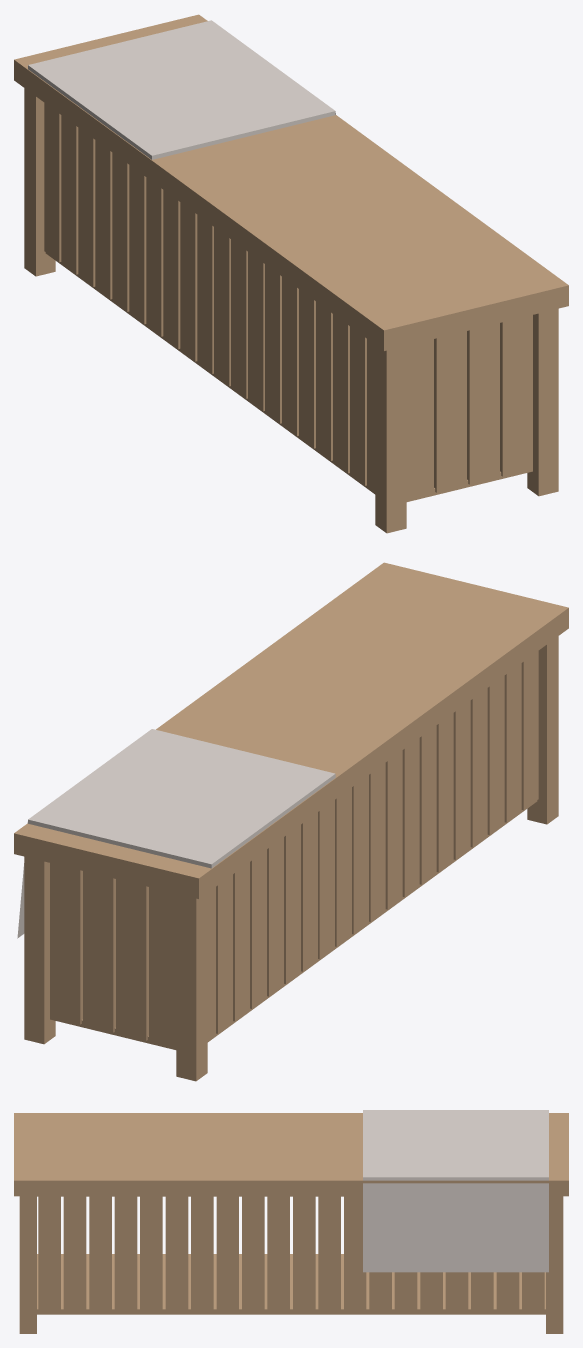
The model's file is SM_Chest_Teak.fbx.
3 renders of one model, top to bottom at view 1: azimuth 30°, elevation 25°; view 2: azimuth 150°, elevation 25°; view 3: azimuth 270°, elevation 25°, orthographic. The views are drawn at different scales.
Parts seen in each view (by area): view 1: SM_Chest_Teak; view 2: SM_Chest_Teak; view 3: SM_Chest_Teak.
Part boxes in pixels (x1,y1,x2,y2): SM_Chest_Teak: (14,14,568,533); SM_Chest_Teak: (14,562,568,1081); SM_Chest_Teak: (14,1110,568,1333).
Size of the model in its own units: 59 by 61.2 by 194.
